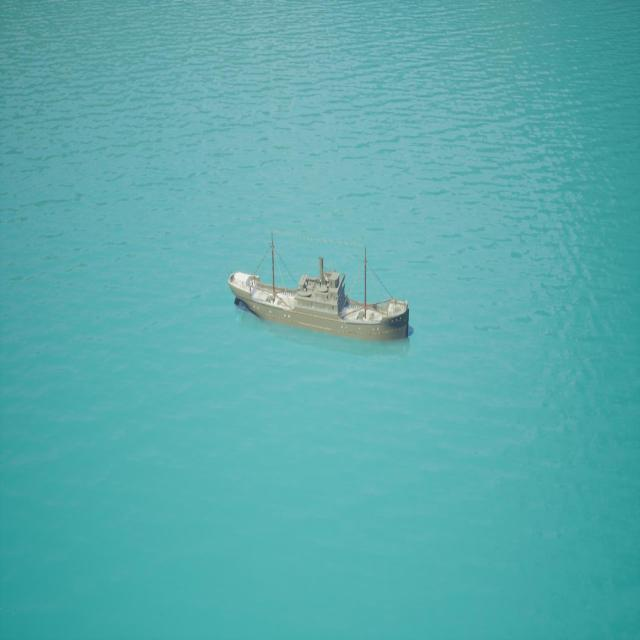fishing ship: (229, 235, 413, 348)
